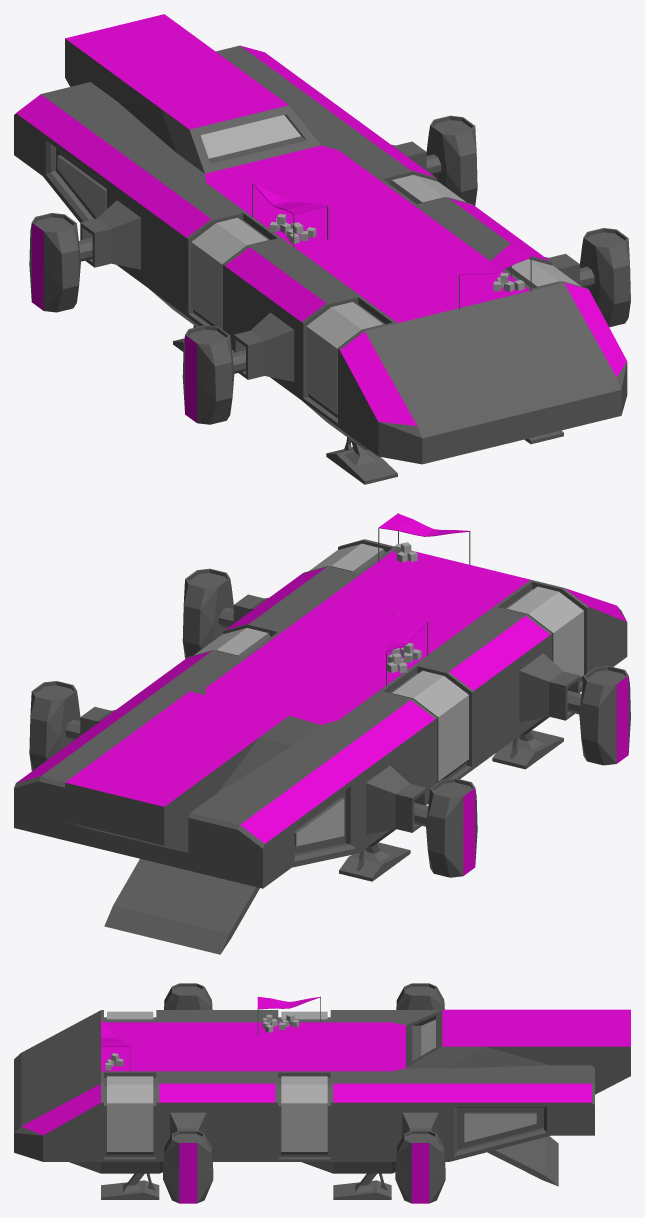
File: SEVlanded.fbx
3 views of the same model, one above another, from view 1: azimuth 30°, elevation 25°; view 2: azimuth 150°, elevation 25°; view 3: azimuth 270°, elevation 25° (orthographic). The views are drawn at different scales.
Parts seen in each view (by area): view 1: Body, Engine RR, Engine FR, Engine FL, Engine RL, Landing Gear FR, Awning_2, Awning_1; view 2: Body, Hatch, Engine FR, Engine RR, Engine FL, Engine RL, Landing Gear RR, Landing Gear FR, Awning_2, Awning_1; view 3: Body, Engine RL, Engine FL, Hatch, Landing Gear FL, Landing Gear RL, Engine RR, Engine FR, Awning_1, Awning_2.
Boxes of the visible parts, x1,y1,x2,y2 form: Body: (14, 14, 627, 464); Engine RR: (29, 213, 92, 312); Engine FR: (182, 325, 245, 424); Engine FL: (580, 228, 630, 327); Engine RL: (426, 115, 477, 205); Landing Gear FR: (326, 437, 397, 484); Awning_2: (459, 243, 531, 309); Awning_1: (252, 183, 328, 247); Body: (14, 539, 627, 888); Hatch: (104, 859, 259, 954); Engine FR: (567, 666, 630, 765); Engine RR: (414, 778, 477, 877); Engine FL: (182, 568, 233, 658); Engine RL: (29, 681, 80, 770); Landing Gear RR: (339, 842, 410, 881); Landing Gear FR: (492, 730, 563, 769); Awning_2: (378, 513, 470, 564); Awning_1: (386, 613, 428, 685); Body: (14, 1009, 630, 1173); Engine RL: (395, 1130, 445, 1203); Engine FL: (163, 1130, 213, 1203); Hatch: (487, 1136, 558, 1186); Landing Gear FL: (101, 1173, 159, 1199); Landing Gear RL: (333, 1173, 391, 1199); Engine RR: (396, 983, 444, 1009); Engine FR: (164, 983, 212, 1009); Awning_1: (257, 996, 320, 1034); Awning_2: (100, 1019, 130, 1071).
Size of the model in its own units: 1300 by 546 by 2124.
